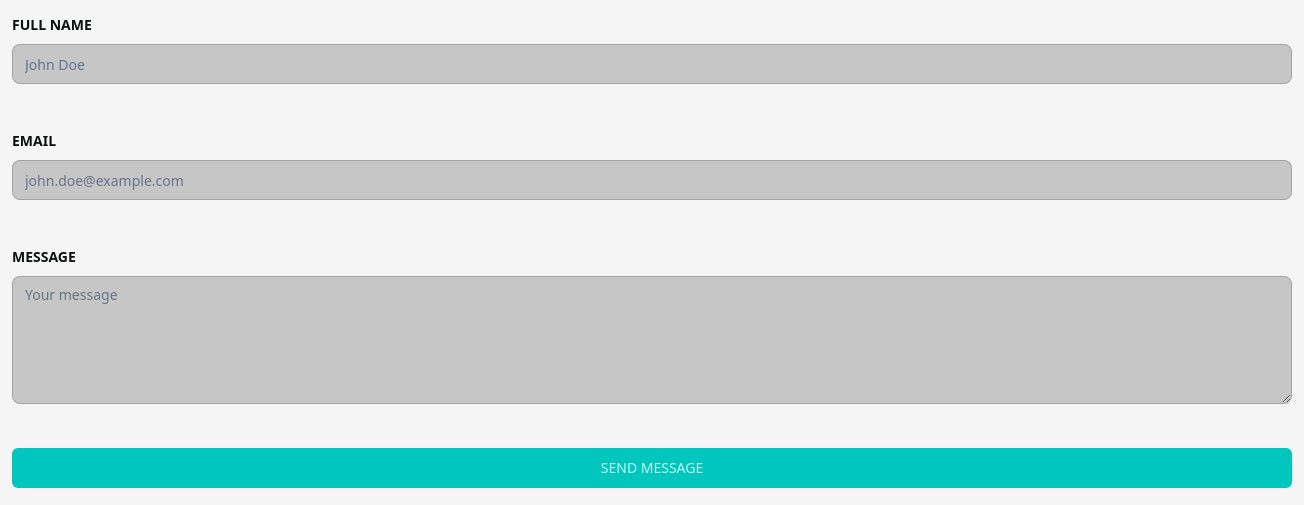
Scenario: ContactForm › displays validation errors for empty fields
The width and height of the screenshot is (1304, 505).
What coordinates should you click on to do the following:
click the button "Send message"
I would click on:
 (652, 468)
Its box is left=12, top=448, right=1292, bottom=488.
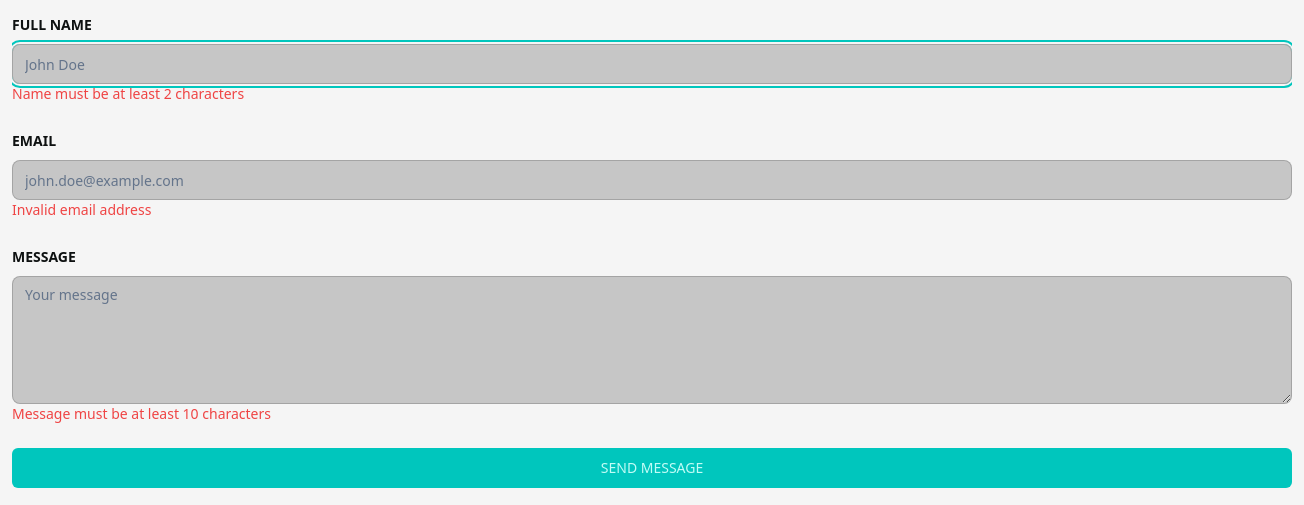
Check: the text "Name must be at least 2 characters" is shown, box left=12, top=84, right=244, bottom=103
Check: the text "Invalid email address" is shown, box left=12, top=200, right=151, bottom=219
Check: the text "Message must be at least 10 characters" is shown, box left=12, top=404, right=271, bottom=423
